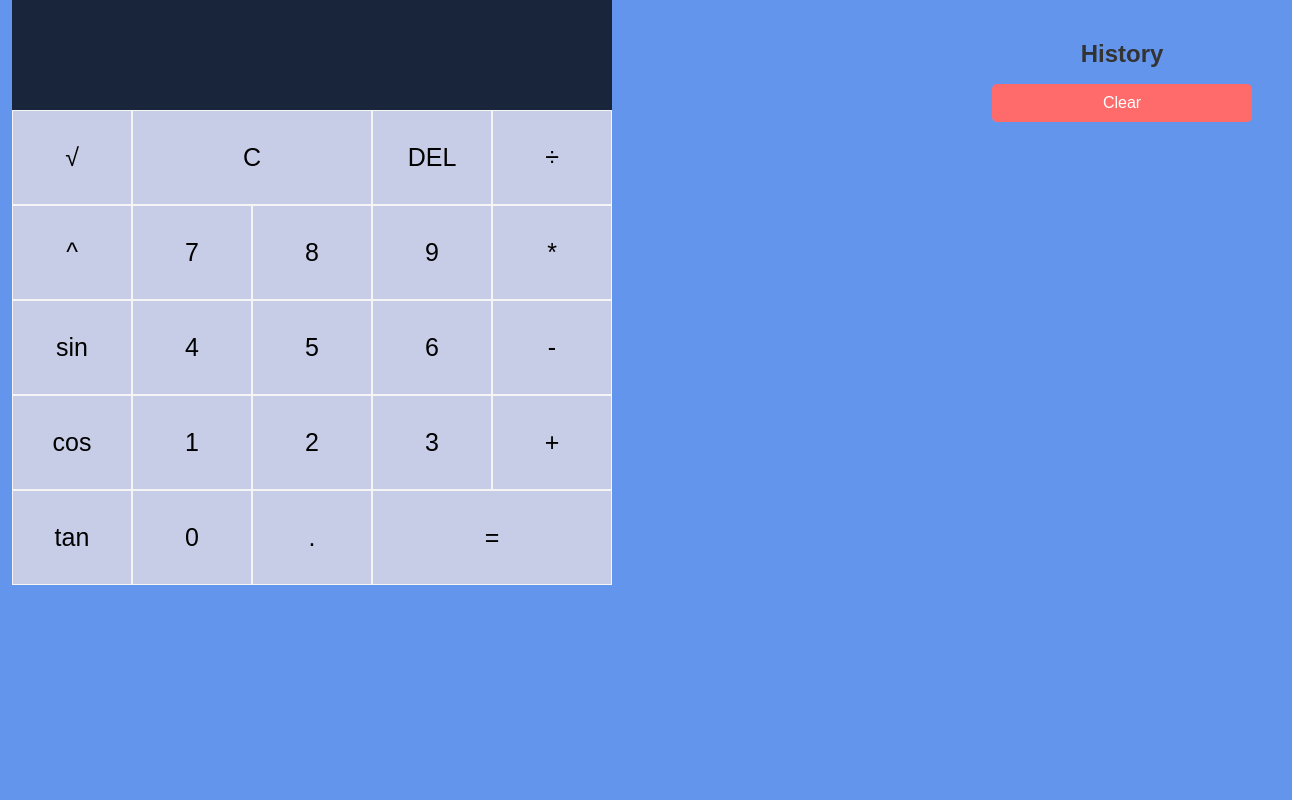
Test: Calculator Component › updates the history after a calculation
The width and height of the screenshot is (1292, 800).
What coordinates should you click on to do the following:
click the button "2"
I would click on:
 (312, 442)
Its box is [252, 395, 372, 490].
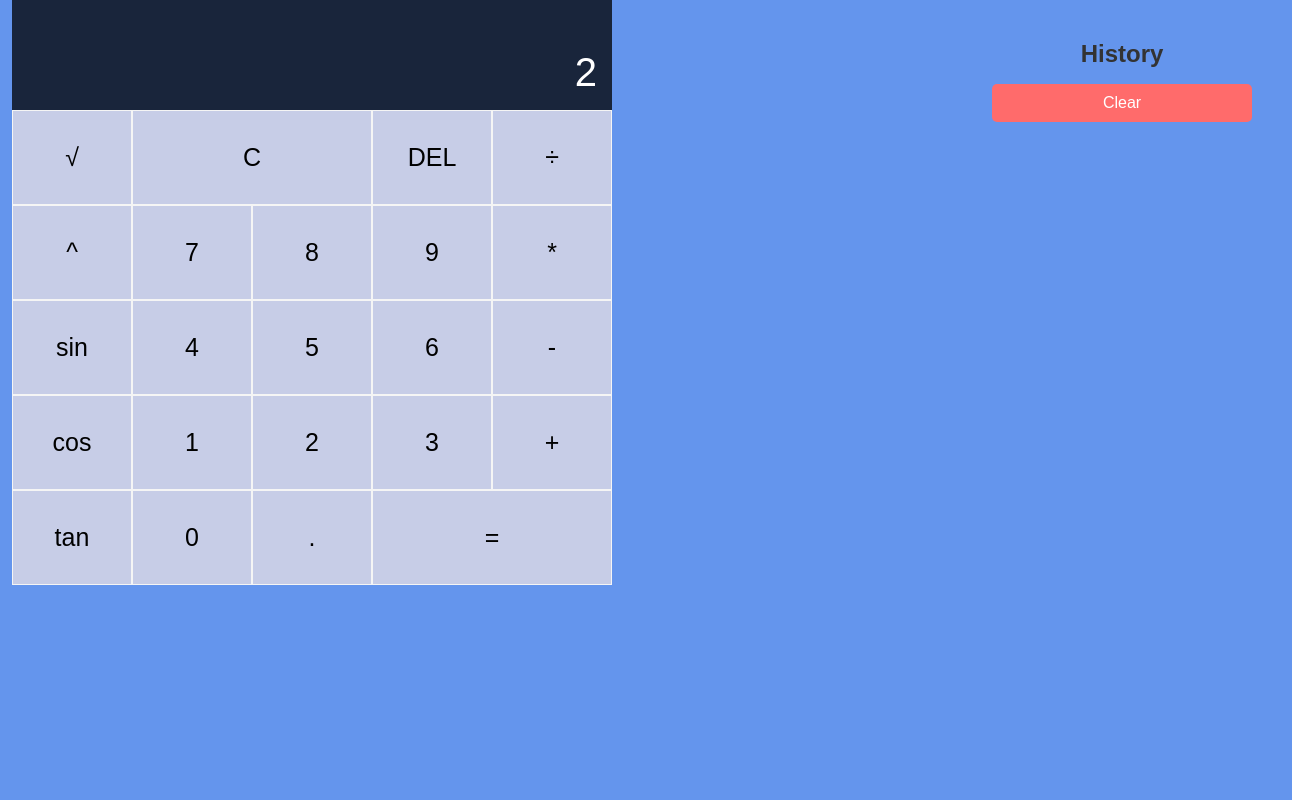
What coordinates should you click on to do the following:
click the button "+"
I would click on:
 (552, 442)
Its box is [492, 395, 612, 490].
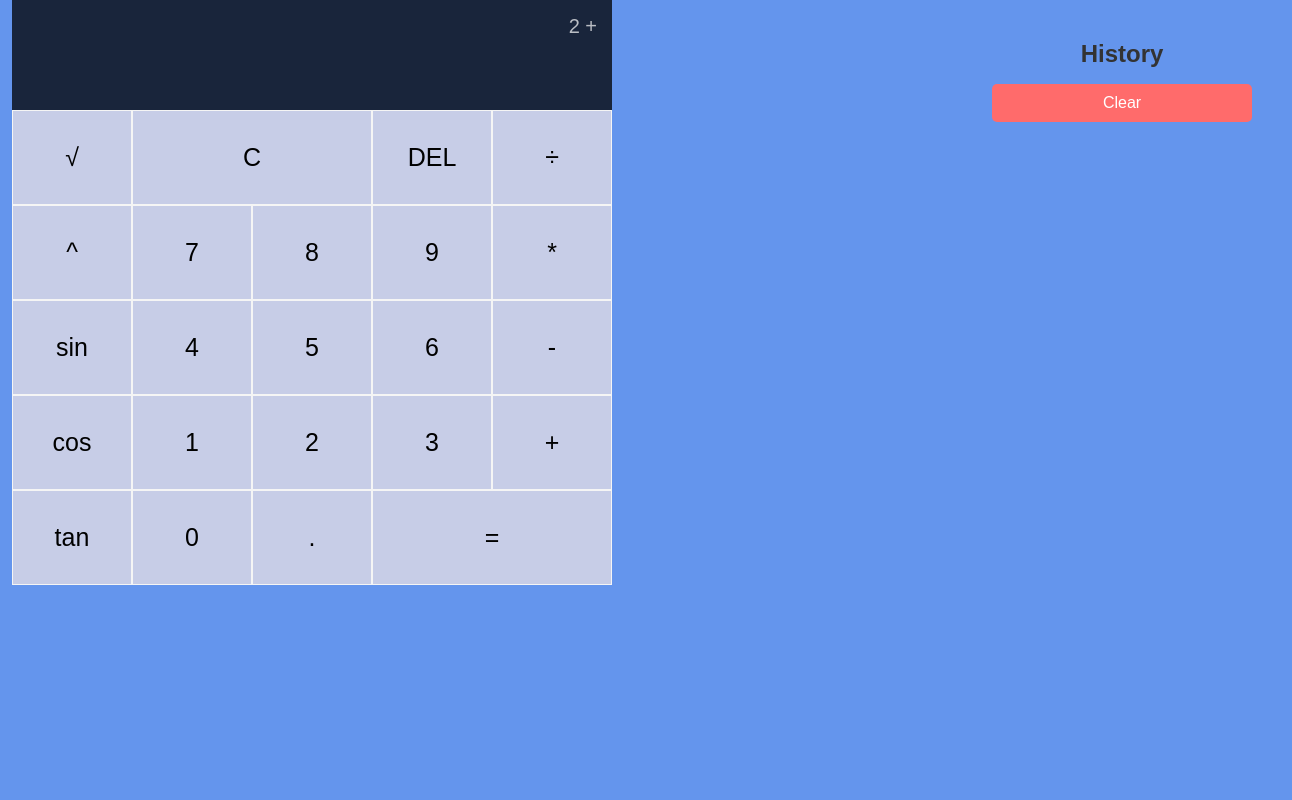
What coordinates should you click on to do the following:
click the button "3"
I would click on:
 (432, 442)
Its box is [372, 395, 492, 490].
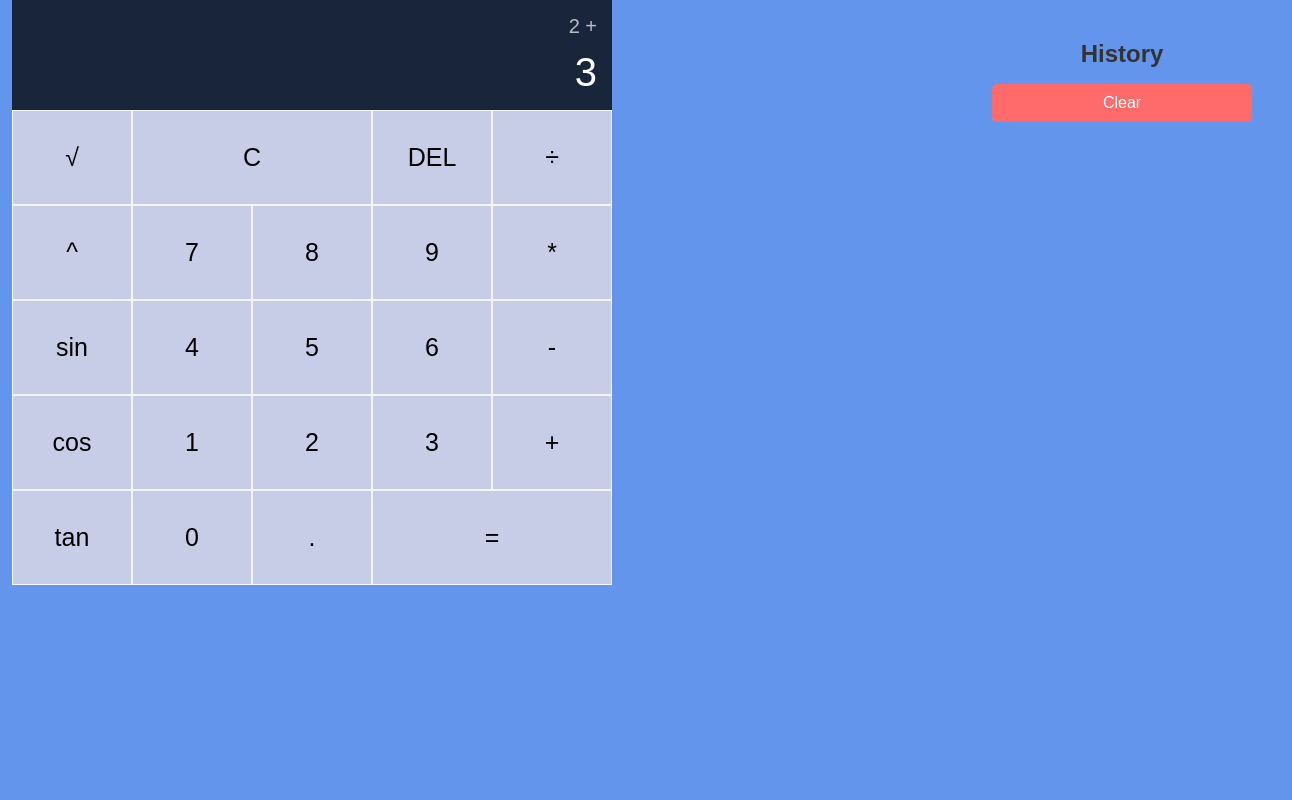
What coordinates should you click on to do the following:
click the button "="
I would click on:
 (492, 538)
Its box is [372, 490, 612, 585].
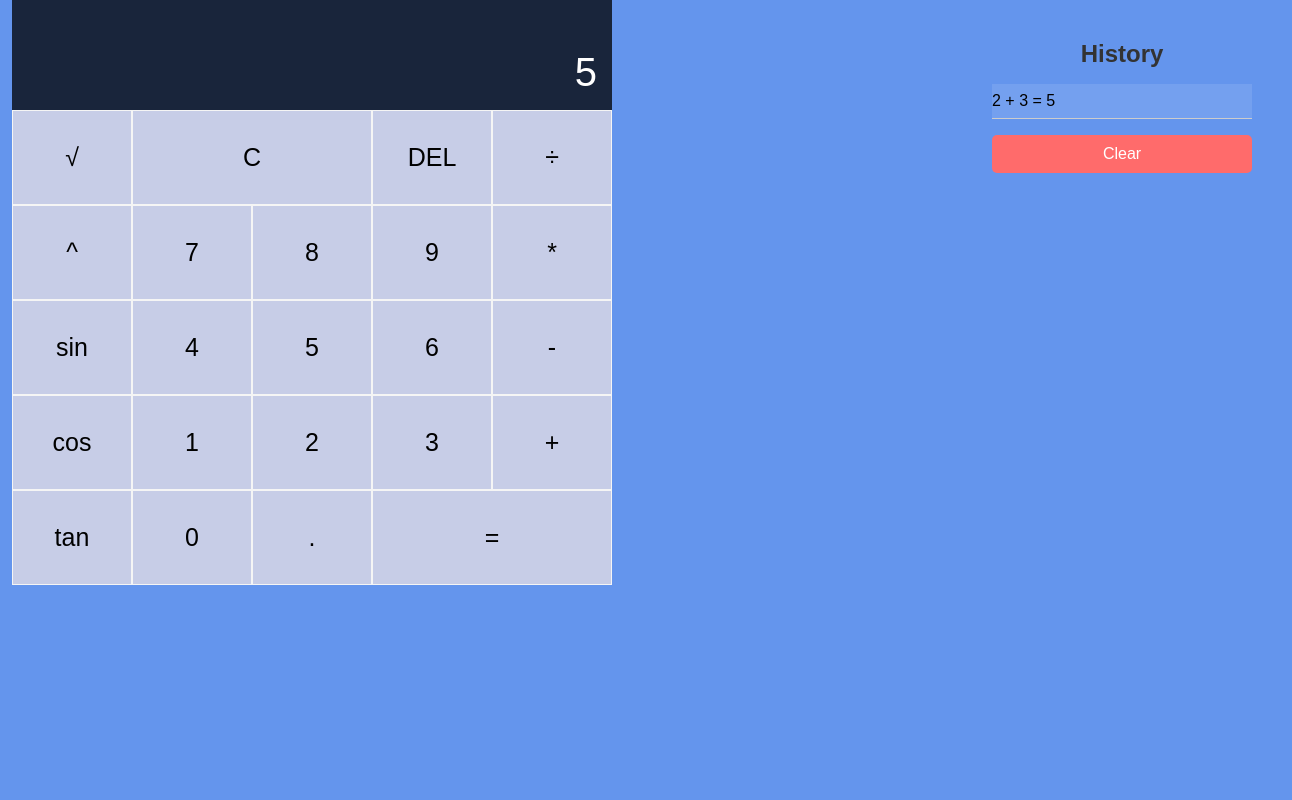
Expected: the list item "2 + 3 = 5" is shown, [992, 84, 1252, 119]
